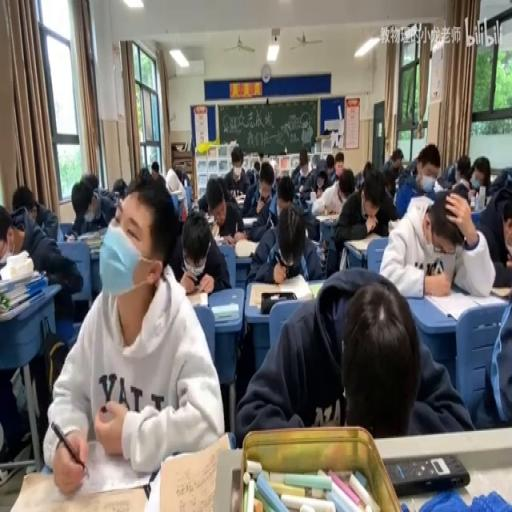calculator: (6, 444, 153, 509), (153, 431, 234, 512), (423, 287, 496, 320), (248, 275, 313, 307), (0, 266, 43, 292), (0, 291, 38, 320), (210, 300, 238, 322), (78, 226, 105, 243), (185, 287, 209, 306), (234, 238, 257, 256), (488, 284, 510, 298), (315, 240, 326, 263), (214, 233, 234, 245), (299, 198, 314, 214), (338, 246, 348, 270), (314, 212, 337, 222), (309, 282, 323, 298), (232, 193, 246, 205), (241, 214, 257, 224), (169, 188, 182, 199), (64, 232, 77, 242), (205, 213, 214, 225), (90, 248, 100, 258), (310, 192, 316, 202)
paper: (234, 267, 471, 448), (0, 190, 81, 454), (381, 185, 495, 296), (246, 196, 324, 283), (125, 170, 182, 282), (331, 165, 398, 252), (178, 209, 230, 296), (222, 142, 250, 199), (195, 168, 228, 215), (51, 282, 77, 338), (0, 203, 24, 263), (296, 151, 328, 193), (414, 144, 442, 192), (466, 155, 490, 199), (379, 148, 406, 182), (11, 185, 37, 217), (486, 168, 512, 196), (98, 190, 119, 224), (436, 159, 458, 189), (148, 160, 166, 188), (449, 182, 470, 206), (125, 174, 145, 196), (455, 156, 471, 182), (333, 152, 345, 184), (338, 176, 354, 200), (80, 171, 98, 192), (172, 165, 190, 186), (112, 176, 128, 199), (259, 169, 274, 192), (277, 192, 292, 215), (501, 215, 510, 253), (290, 164, 300, 186), (138, 165, 150, 182), (354, 170, 364, 190), (362, 159, 372, 178), (325, 155, 334, 176), (261, 155, 270, 172), (318, 171, 327, 186), (246, 168, 254, 183), (272, 159, 278, 179), (253, 160, 259, 178), (255, 150, 262, 160)
person: (386, 452, 470, 494), (230, 468, 242, 510), (298, 184, 308, 194)
